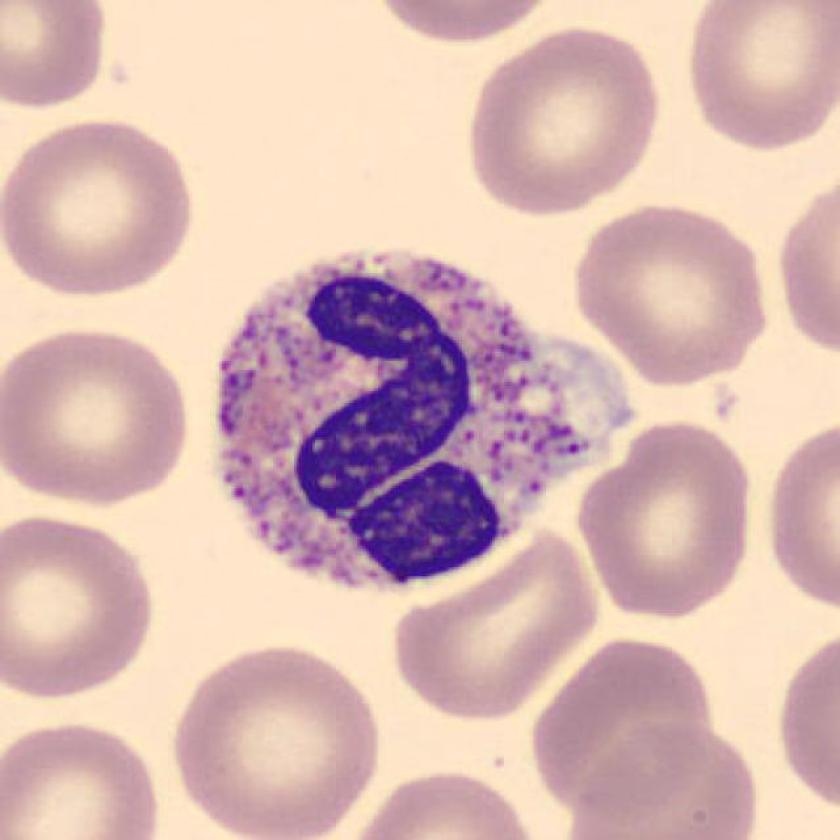neutrophil: (222, 248, 634, 589)
